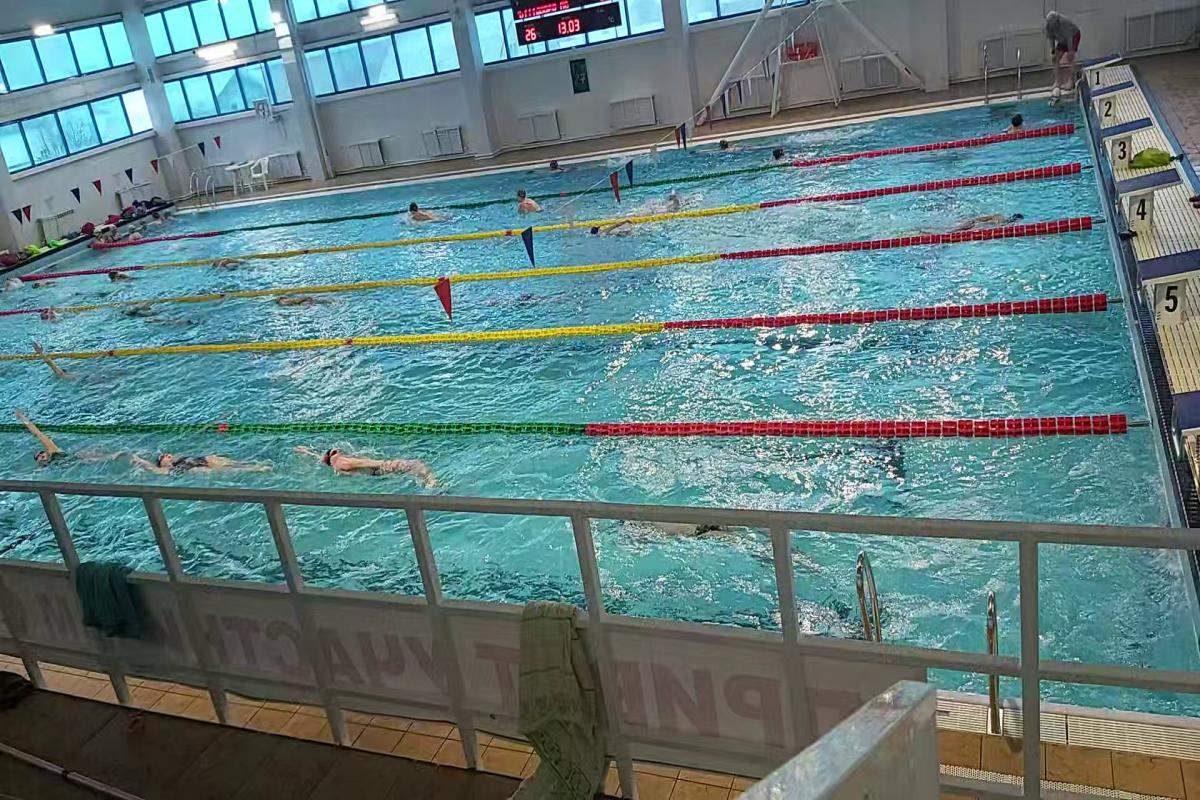swimmer: (292, 431, 456, 489), (127, 443, 270, 481), (15, 429, 114, 475), (625, 522, 767, 551), (28, 347, 87, 386), (262, 289, 347, 312), (930, 209, 1026, 229), (583, 218, 655, 243), (404, 195, 454, 229), (121, 300, 172, 326), (510, 190, 548, 214), (105, 269, 147, 285), (214, 258, 258, 273), (39, 303, 63, 325)
